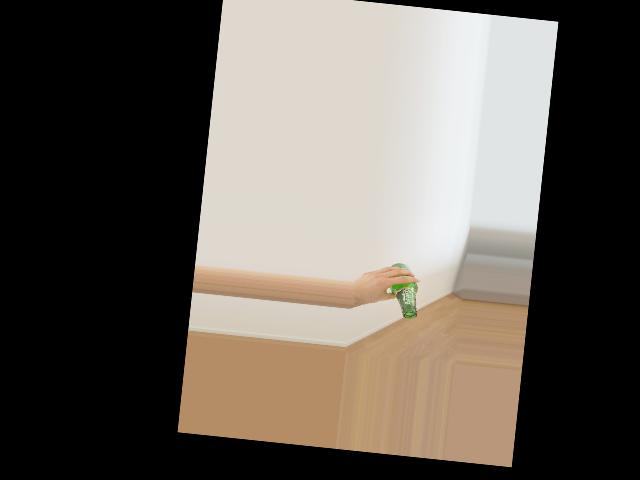beer: (386, 262, 421, 320)
